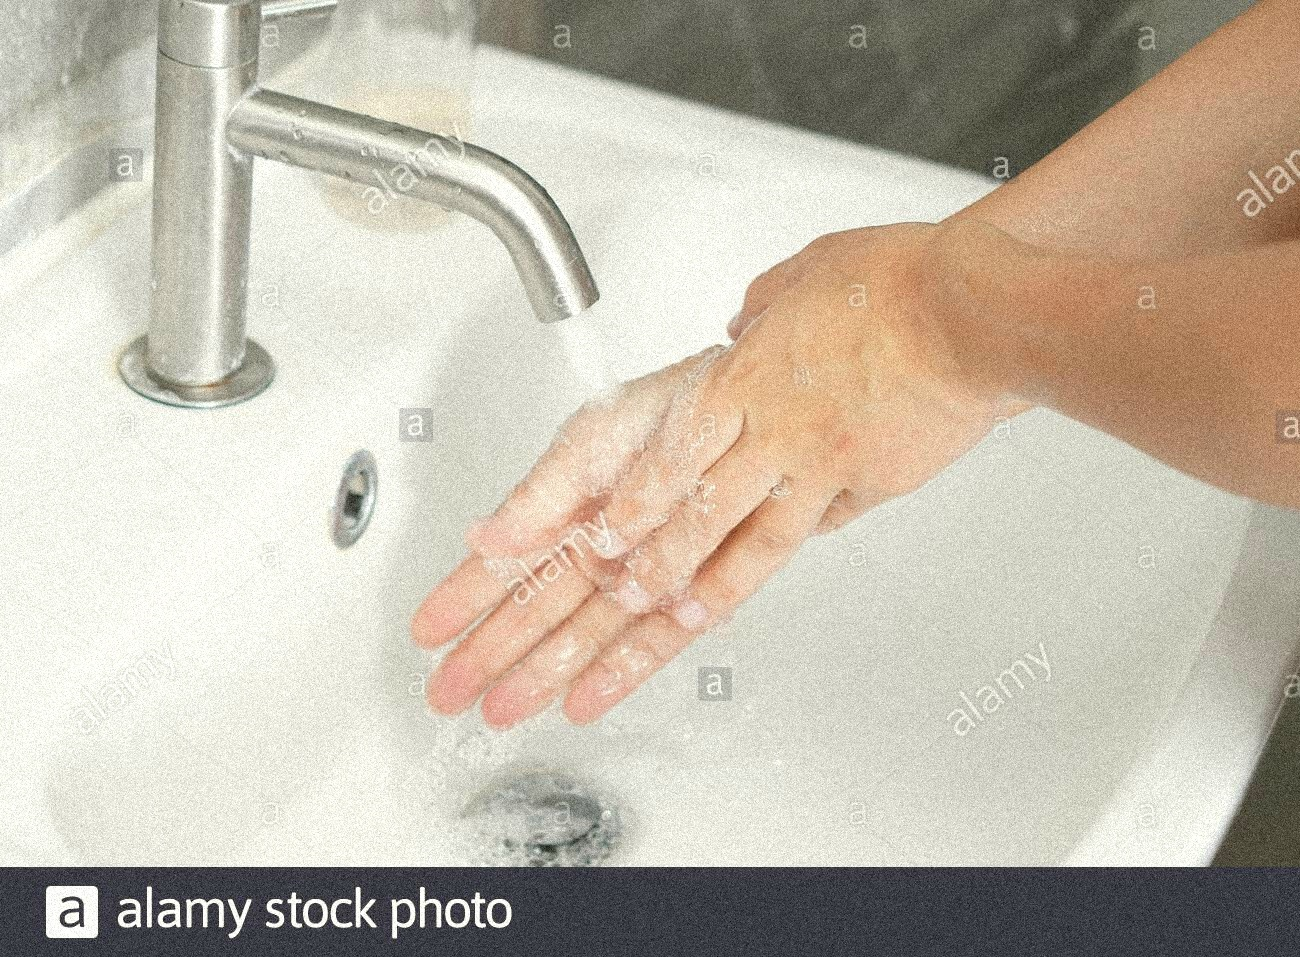washing hand: (160, 51, 903, 771)
